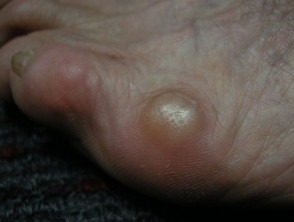Warts: (136, 85, 209, 151)
